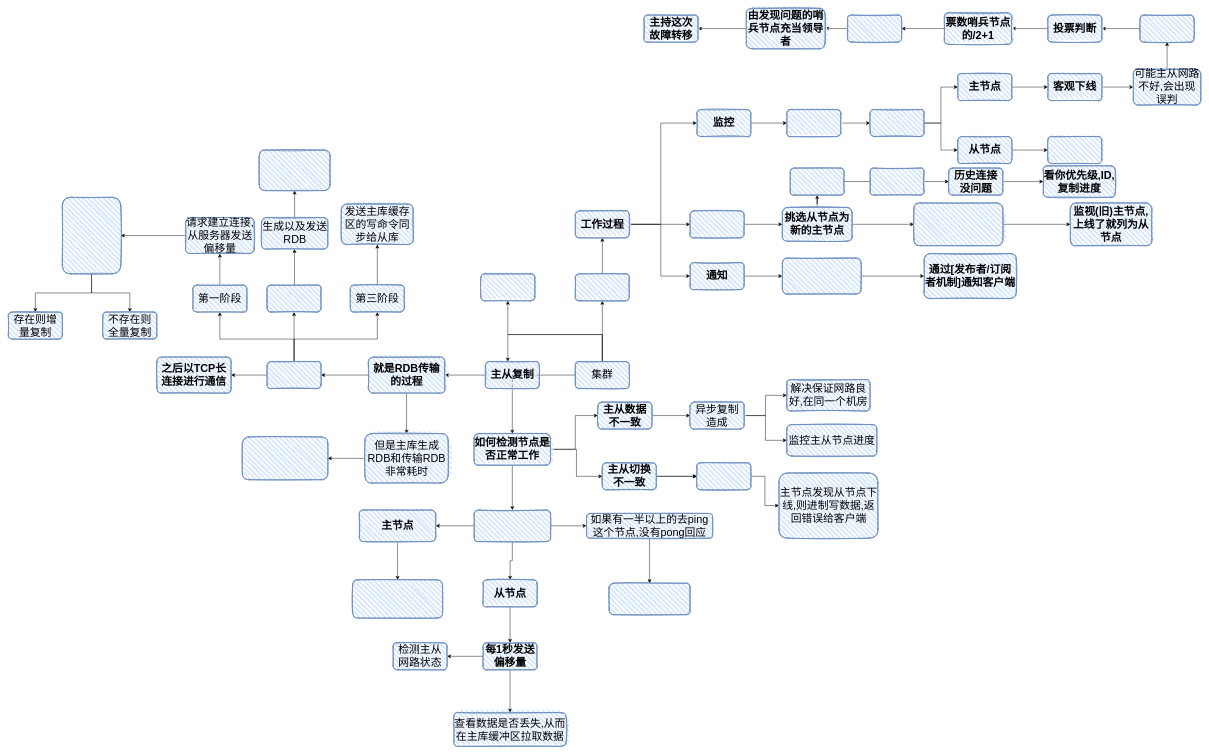
The diagram is 1209 pixels wide and 754 high, and some of its shapes have lost their labels. Each missing label, with the centre of its shape:
"三个阶段" belongs at point 293,375.
"主观下线" belongs at point 1074,150.
"使用PING-PONG策略" belongs at point 512,525.
"使用从库添加下属从库来解决耗时问题" belongs at point 294,170.
"修改其他他从节点的主节点地址" belongs at point 958,224.
"偏移量用于,主库环形扇区判断数据存在" belongs at point 91,235.
"切片集群" belongs at point 507,287.
"则认为挂掉,不再连接" belongs at point 649,599.
"哨兵模式" belongs at point 602,287.
"哨兵节点集群部署" belongs at point 1166,28.
"将新主从节点的IP地址和信息" belongs at point 821,275.
"当前没掉线" belongs at point 896,181.
"未收到pong" belongs at point 896,123.
"每10秒发送ping,判断从节点状态" belongs at point 397,598.
"每一秒发送ping" belongs at point 813,123.
"第二阶段" belongs at point 293,298.
"要求" belongs at point 817,181.
"达到票数" belongs at point 874,28.
"选主" belongs at point 716,224.
"通过从服务器在部署从服务器来解决" belongs at point 285,458.
"集群脑裂" belongs at point 723,476.
